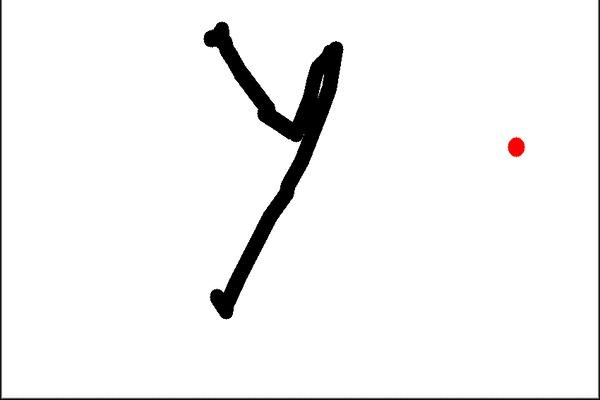Y: (187, 13, 352, 331)
